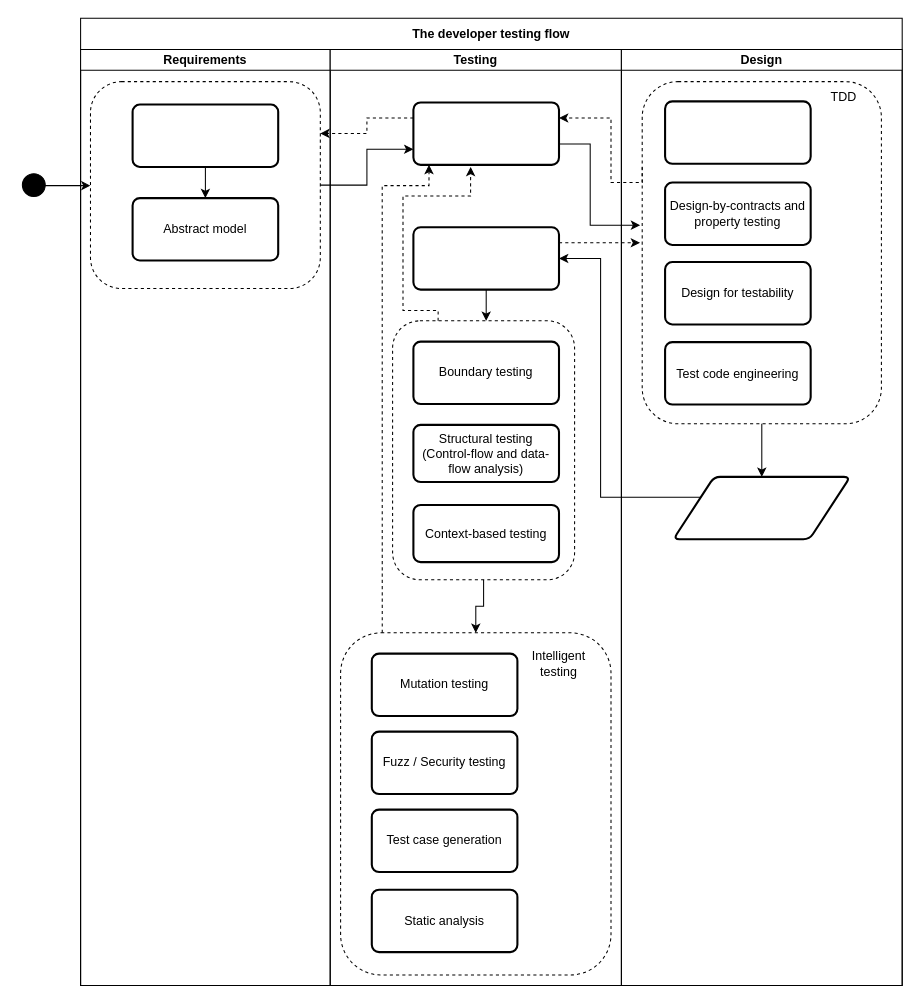
This 920x1004 diagram has some shape labels left out. Each missing label, with the centre of its shape:
Domain analysis: point 486,133
Roles and responsibilities: point 761,507
State and interaction testing: point 737,132
Test level analysis: point 486,258
Textual requirements: point 205,135
